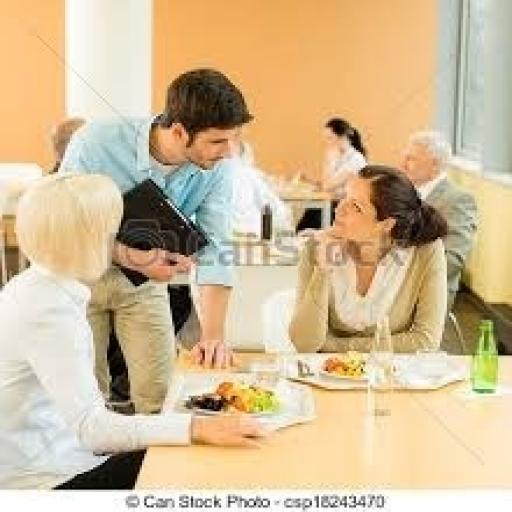eating: (0, 170, 268, 490), (51, 65, 256, 416), (284, 163, 451, 356), (393, 127, 482, 351)
